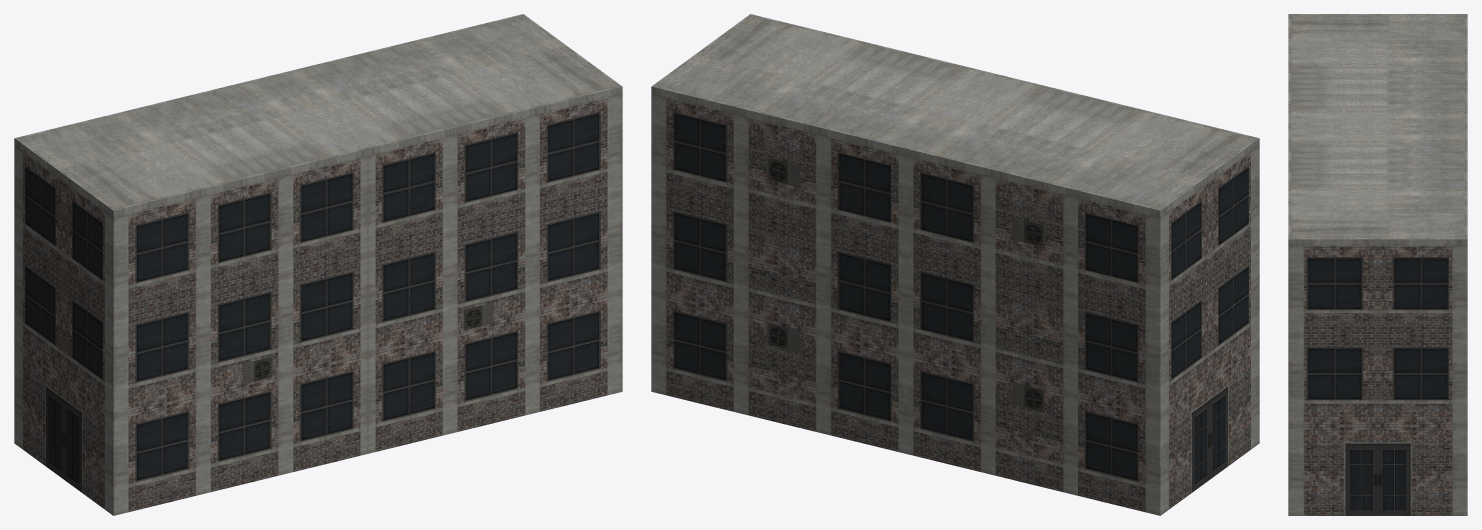
The model's file is apartment_lp.fbx.
3 renders of one model, left to right at view 1: azimuth 30°, elevation 25°; view 2: azimuth 150°, elevation 25°; view 3: azimuth 270°, elevation 25°, orthographic. The views are drawn at different scales.
Parts seen in each view (by area): view 1: apartment_lp; view 2: apartment_lp; view 3: apartment_lp.
Part boxes in pixels (left/top/right/bottom): apartment_lp: left=14, top=14, right=622, bottom=515; apartment_lp: left=651, top=14, right=1259, bottom=515; apartment_lp: left=1288, top=14, right=1467, bottom=515.
Bounding box in the file's own units: 21.19 × 62.86 × 36.02.
